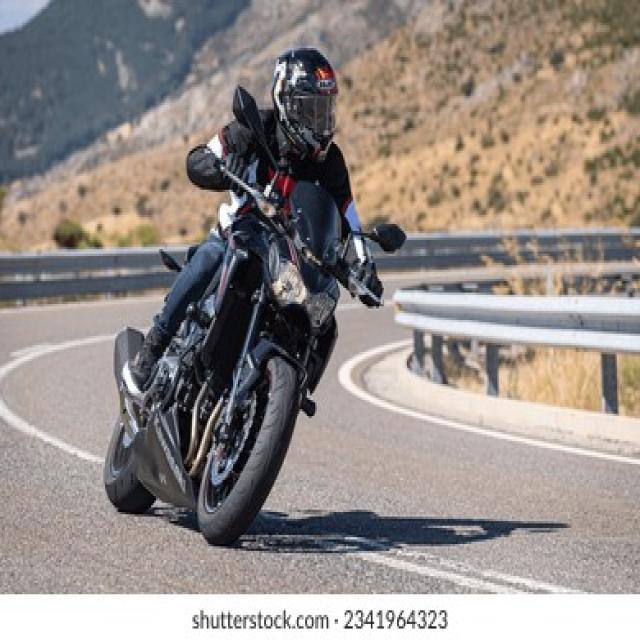MOTORCYCLE: (112, 185, 358, 542)
